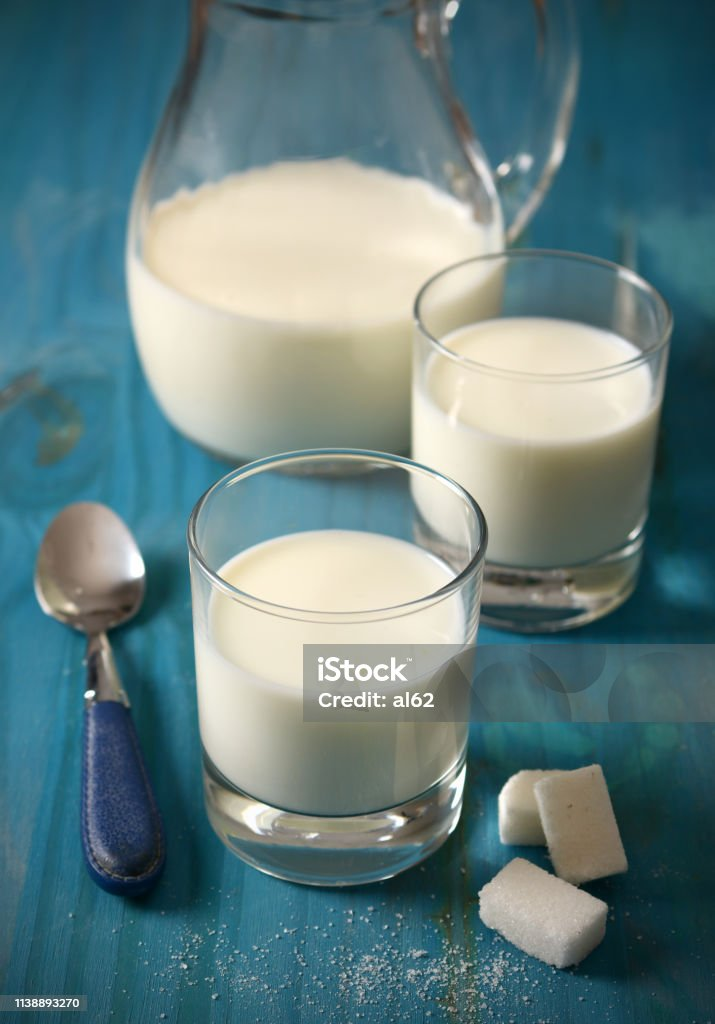produk_susu: (205, 518, 445, 876), (175, 53, 399, 421), (437, 301, 652, 472)
